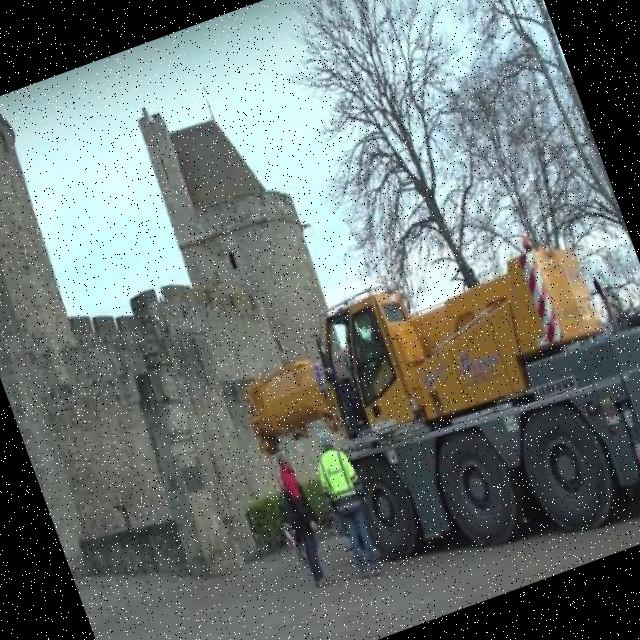Mobile Crane: (221, 204, 640, 626)
